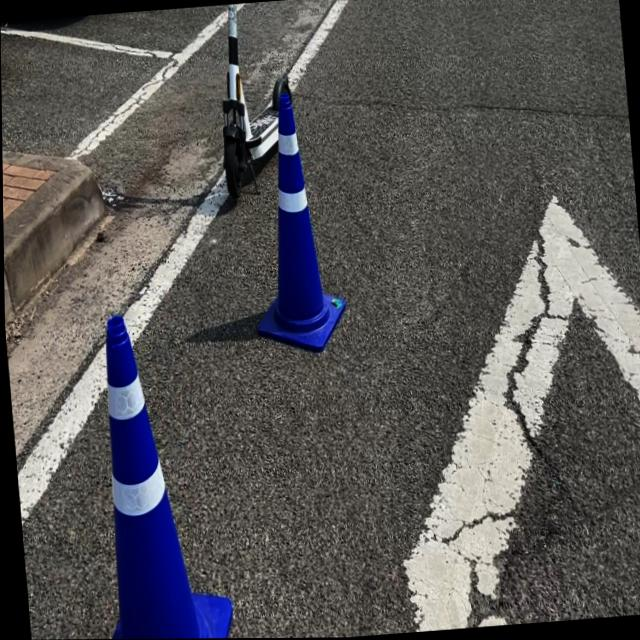b_rub: (104, 315, 229, 639), (256, 90, 345, 351)
